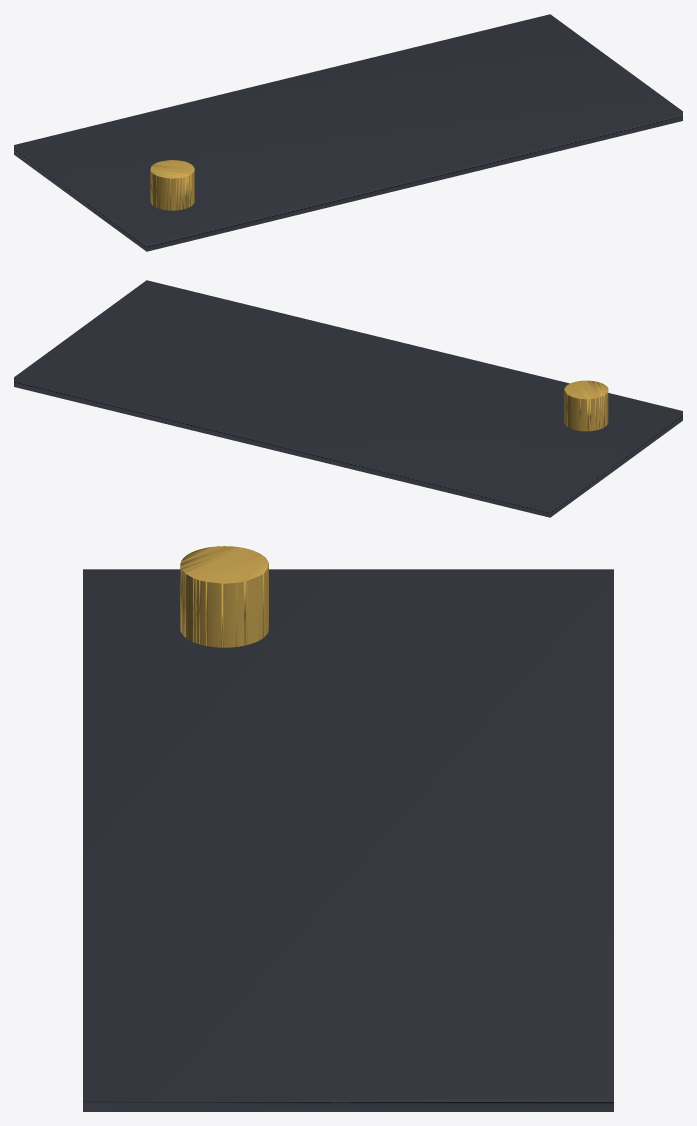
Rendered from handoff.glb.
The picture shows the model from 3 angles, top to bottom: view 1: azimuth 30°, elevation 25°; view 2: azimuth 150°, elevation 25°; view 3: azimuth 270°, elevation 25°; orthographic projection. The views are drawn at different scales.
Visible parts, largest first — view 1: base_plate, brass_standoff; view 2: base_plate, brass_standoff; view 3: base_plate, brass_standoff.
Boxes of the visible parts, left/top/right/bottom form: base_plate: left=14, top=14, right=682, bottom=251; brass_standoff: left=150, top=160, right=194, bottom=210; base_plate: left=14, top=280, right=682, bottom=517; brass_standoff: left=564, top=380, right=608, bottom=431; base_plate: left=83, top=569, right=613, bottom=1111; brass_standoff: left=180, top=546, right=268, bottom=647.
Bounding box in the file's own units: 0.7 × 0.052 × 0.3.
